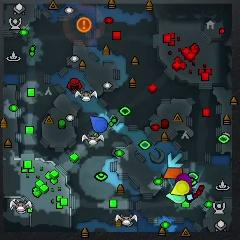Other: (77, 17, 92, 33)
p1: (90, 115, 108, 133)
p2: (165, 192, 186, 203)
p3: (176, 174, 192, 193)
p4: (172, 181, 190, 196)
p5: (163, 167, 183, 179)
x3: (168, 152, 183, 167)
